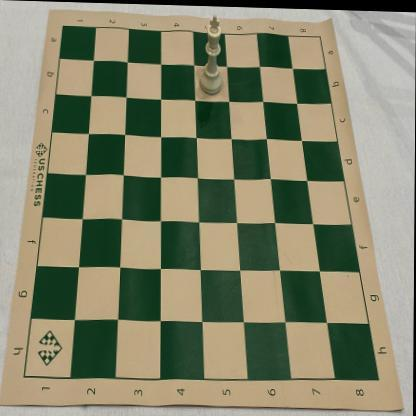white-king: (199, 13, 224, 95)
